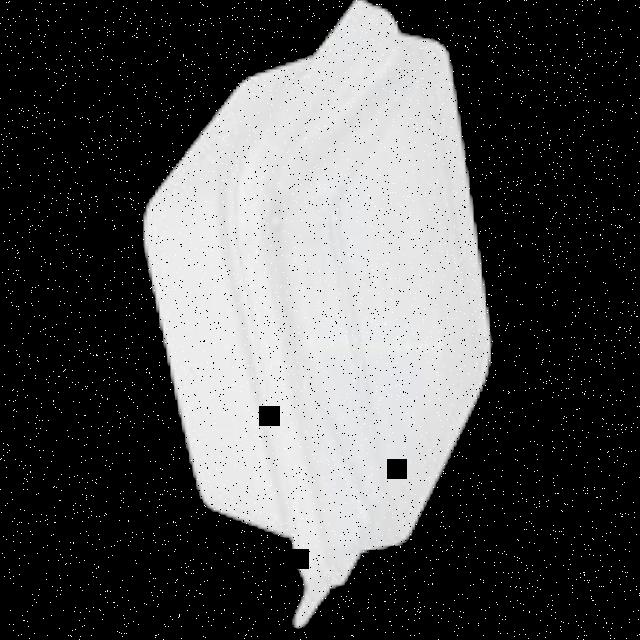plastic_box: (129, 0, 498, 634)
